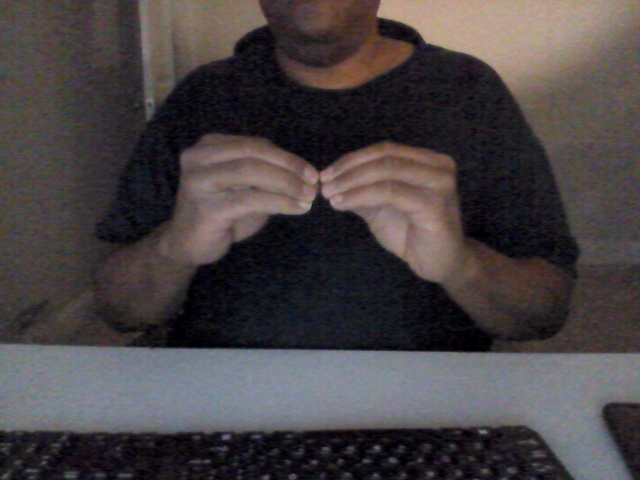more: (173, 128, 464, 283)
